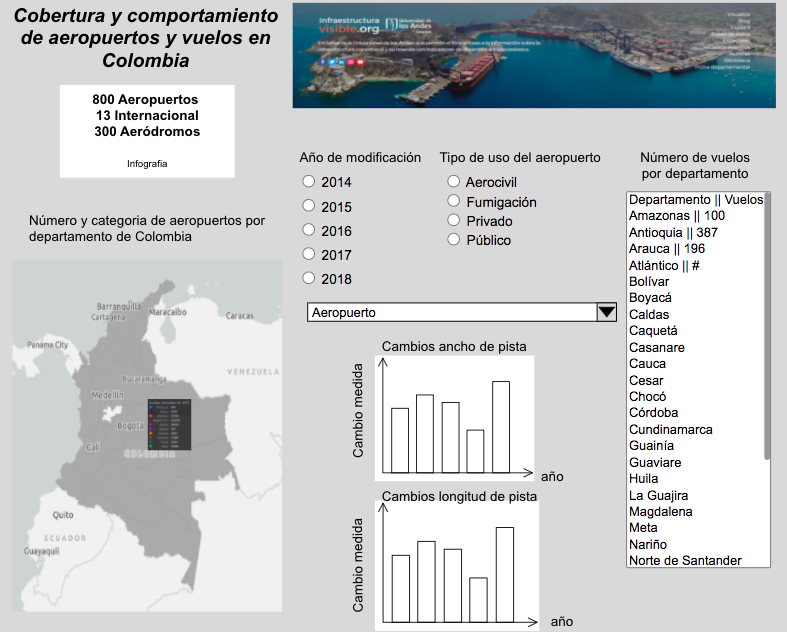

Layout of this report page (visuals, bound fields, positions):
{"tool":"powerbi","page":{"name":"Página 1","canvas":[1280,720],"ordinal":0},"visuals":[{"type":"slicer","fields":{"Values":["aeropuertos.year"]},"box":[418.9,0,280.2,109.9],"z":0},{"type":"pivotTable","title":"Número de vuelos","fields":{"Rows":["aeropuertos.departamento"],"Columns":["aeropuertos.year"],"Values":["Sum(hecho_vuelos.vuelos)"]},"box":[954.5,104.4,325.5,615.3],"z":1000},{"type":"waterfallChart","title":"Cambios longitud de pista","fields":{"Category":["aeropuertos.year"],"Y":["Sum(aeropuertos.Column_longitud)"]},"box":[428.5,439.5,526,259.6],"z":2000},{"type":"esriVisual","title":"Número de aeropuertos por departamento","fields":{"Location":["aeropuertos.departamento"],"Color":["CountNonNull(aeropuertos.sigla)"]},"box":[0,0,418.9,719.7],"z":3000},{"type":"actionButton","box":[0,0,100,40],"z":4000},{"type":"slicer","fields":{"Values":["aeropuertos.tipo"]},"box":[699.1,0,337.9,109.9],"z":5000},{"type":"slicer","fields":{"Values":["aeropuertos.nombre"]},"box":[418.9,104.4,535.6,64.5],"z":6000},{"type":"waterfallChart","title":"Cambios ancho de pista","fields":{"Category":["aeropuertos.year"],"Y":["Sum(aeropuertos.Column_ancho)"]},"box":[418.9,168.9,526,255.5],"z":7000},{"type":"slicer","fields":{"Values":["aeropuertos.vigente"]},"box":[954.5,0,299.4,74.2],"z":7001}]}

Visuals, with their boxes on the page's 1280x720 design canvas (x1, y1, x2, y2). These are canvas units, not pixel positions in the 787x632 screenshot, which may show the page scaled, cropped or inside an application window:
slicer - aeropuertos.year: pyautogui.locateOnScreen(419, 0, 699, 110)
"Número de vuelos" pivotTable: pyautogui.locateOnScreen(954, 104, 1280, 720)
"Cambios longitud de pista" waterfallChart: pyautogui.locateOnScreen(428, 440, 954, 699)
"Número de aeropuertos por departamento" esriVisual: pyautogui.locateOnScreen(0, 0, 419, 720)
actionButton: pyautogui.locateOnScreen(0, 0, 100, 40)
slicer - aeropuertos.tipo: pyautogui.locateOnScreen(699, 0, 1037, 110)
slicer - aeropuertos.nombre: pyautogui.locateOnScreen(419, 104, 954, 169)
"Cambios ancho de pista" waterfallChart: pyautogui.locateOnScreen(419, 169, 945, 424)
slicer - aeropuertos.vigente: pyautogui.locateOnScreen(954, 0, 1254, 74)
